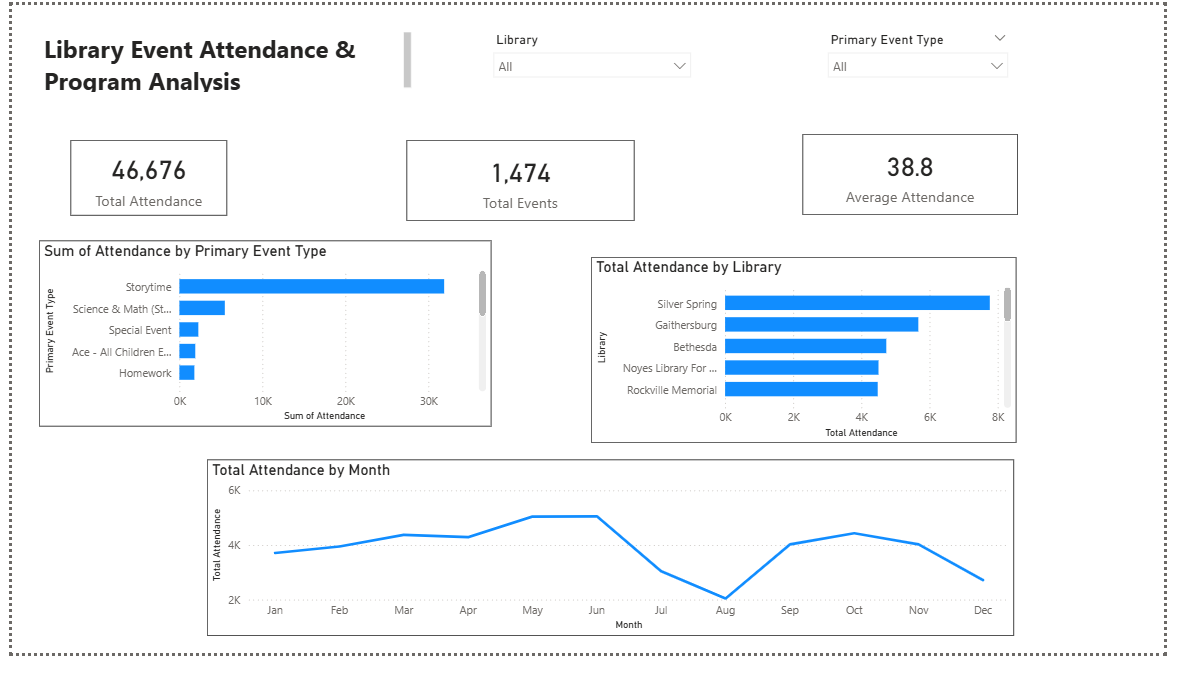

What the dashboard file says about the page in this screenshot:
{"tool":"powerbi","page":{"name":"Page 1","canvas":[1280,720],"ordinal":0},"visuals":[{"type":"card","fields":{"Values":["_Key Measures.Total Attendance"]},"box":[65.2,149.5,173.9,84.2],"z":0},{"type":"card","fields":{"Values":["_Key Measures.Average Attendance"]},"box":[877.8,144,239.2,89.7],"z":1000},{"type":"card","fields":{"Values":["_Key Measures.Total Events"]},"box":[437.5,149.5,253,89.7],"z":2000},{"type":"clusteredBarChart","fields":{"Category":["All_Children_Excel_Program_Attendance_20240525.Library"],"Y":["_Key Measures.Total Attendance"]},"box":[644.1,279.9,472.9,206.5],"z":3000},{"type":"lineChart","fields":{"Category":["All_Children_Excel_Program_Attendance_20240525.Month"],"Y":["_Key Measures.Total Attendance"]},"box":[217.4,505.5,896.8,195.7],"z":4000},{"type":"slicer","fields":{"Values":["All_Children_Excel_Program_Attendance_20240525.Library"]},"box":[524.5,24.5,239.2,119.6],"z":5000},{"type":"slicer","fields":{"Values":["All_Children_Excel_Program_Attendance_20240525.Primary Event Type"]},"box":[896.8,24.5,220.1,97.8],"z":6000},{"type":"textbox","box":[29.9,24.5,418.5,76.1],"z":7000},{"type":"clusteredBarChart","fields":{"Category":["All_Children_Excel_Program_Attendance_20240525.Primary Event Type"],"Y":["Sum(All_Children_Excel_Program_Attendance_20240525.Attendance)"]},"box":[29.9,260.9,502.8,206.5],"z":8000}]}

Visuals, with their boxes in screenshot pixels (x1, y1, x2, y2), scaled from the page's 1280x720 canvas onto the 1183x673 screenshot:
card - _Key Measures.Total Attendance: <box>60,140,221,218</box>
card - _Key Measures.Average Attendance: <box>811,135,1032,218</box>
card - _Key Measures.Total Events: <box>404,140,638,224</box>
clusteredBarChart - All_Children_Excel_Program_Attendance_20240525.Library x _Key Measures.Total Attendance: <box>595,262,1032,455</box>
lineChart - All_Children_Excel_Program_Attendance_20240525.Month x _Key Measures.Total Attendance: <box>201,473,1030,655</box>
slicer - All_Children_Excel_Program_Attendance_20240525.Library: <box>485,23,706,135</box>
slicer - All_Children_Excel_Program_Attendance_20240525.Primary Event Type: <box>829,23,1032,114</box>
textbox: <box>28,23,414,94</box>
clusteredBarChart - All_Children_Excel_Program_Attendance_20240525.Primary Event Type x Sum(All_Children_Excel_Program_Attendance_20240525.Attendance): <box>28,244,492,437</box>
